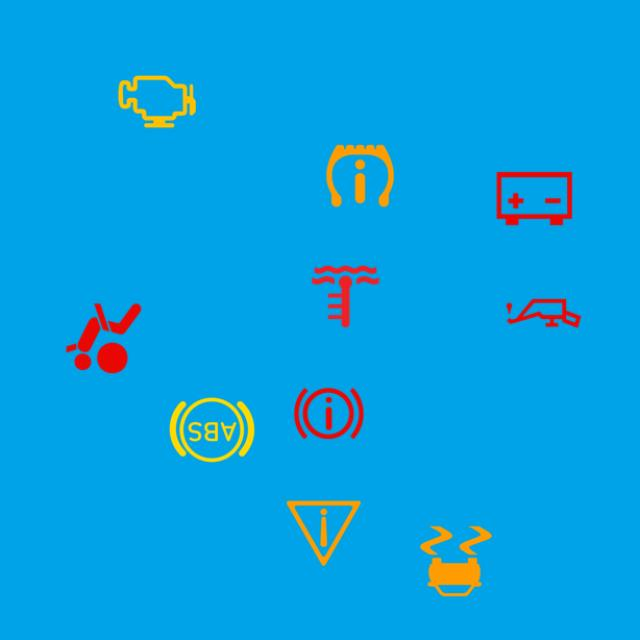Anti Lock Braking System: (165, 384, 258, 476)
Braking System Issue: (282, 367, 376, 460)
Charging System Issue: (488, 152, 580, 245)
Check Engine: (110, 55, 204, 148)
Electronic Stability Problem -ESP-: (410, 515, 502, 608)
Engine Overheating Warning Light: (299, 250, 392, 343)
Low Engine Oil Warning Light: (497, 266, 590, 360)
Low Tire Pressure Warning Light: (314, 129, 406, 222)
Master warning light: (277, 486, 370, 580)
SRS-Airbag: (57, 292, 150, 384)
